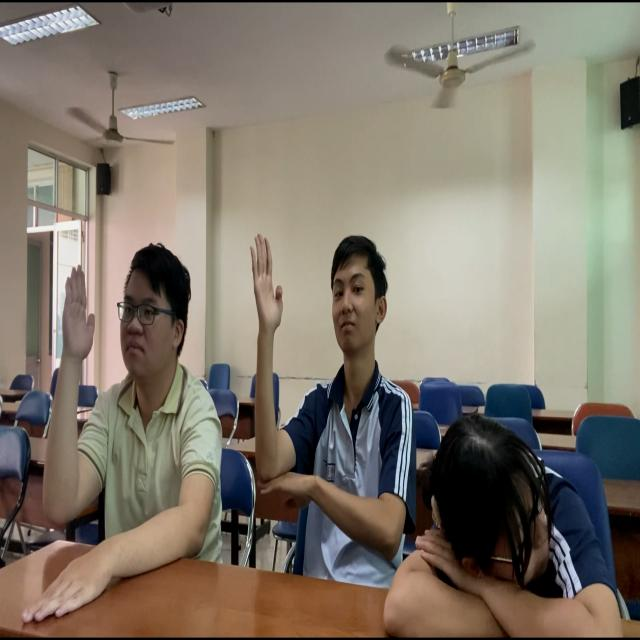raise_hand: (242, 206, 413, 576)
sleep: (415, 411, 638, 640)
